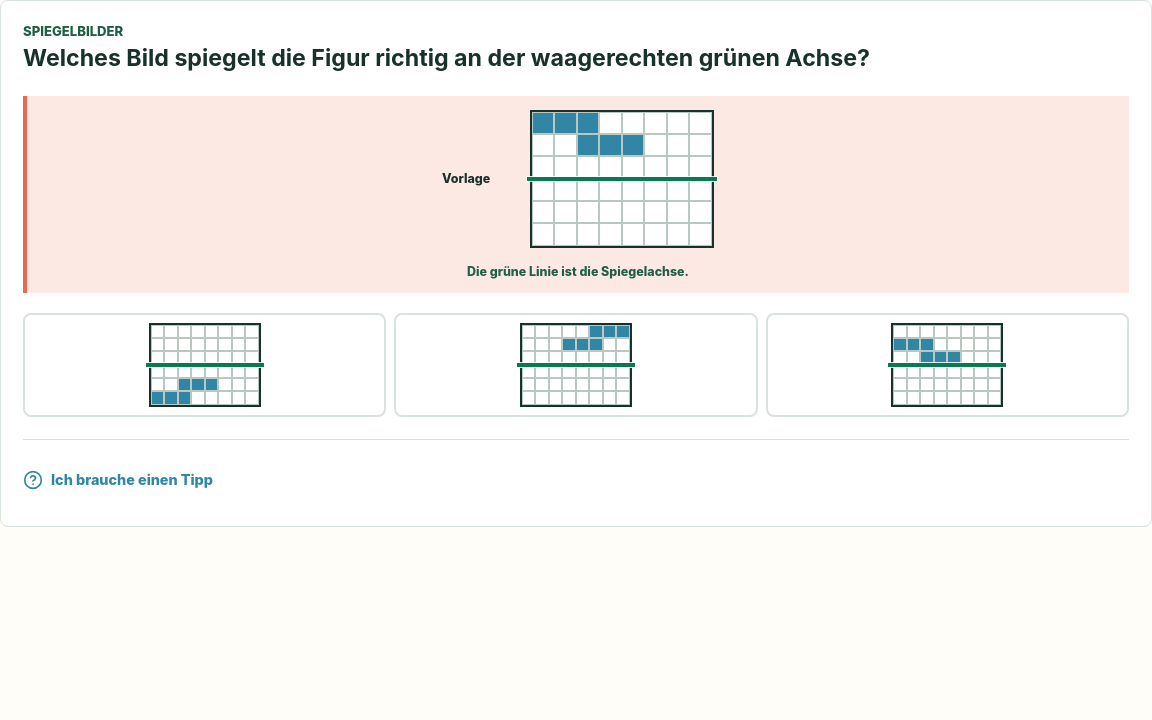
ExerciseCard › wertet im Symmetrie-Transfer das Spiegelbild an der sichtbaren Achse als richtig
This screenshot has width=1152, height=720.
Click the 1st button named "Antwort A".
click(205, 365)  # box [23,313,386,417]
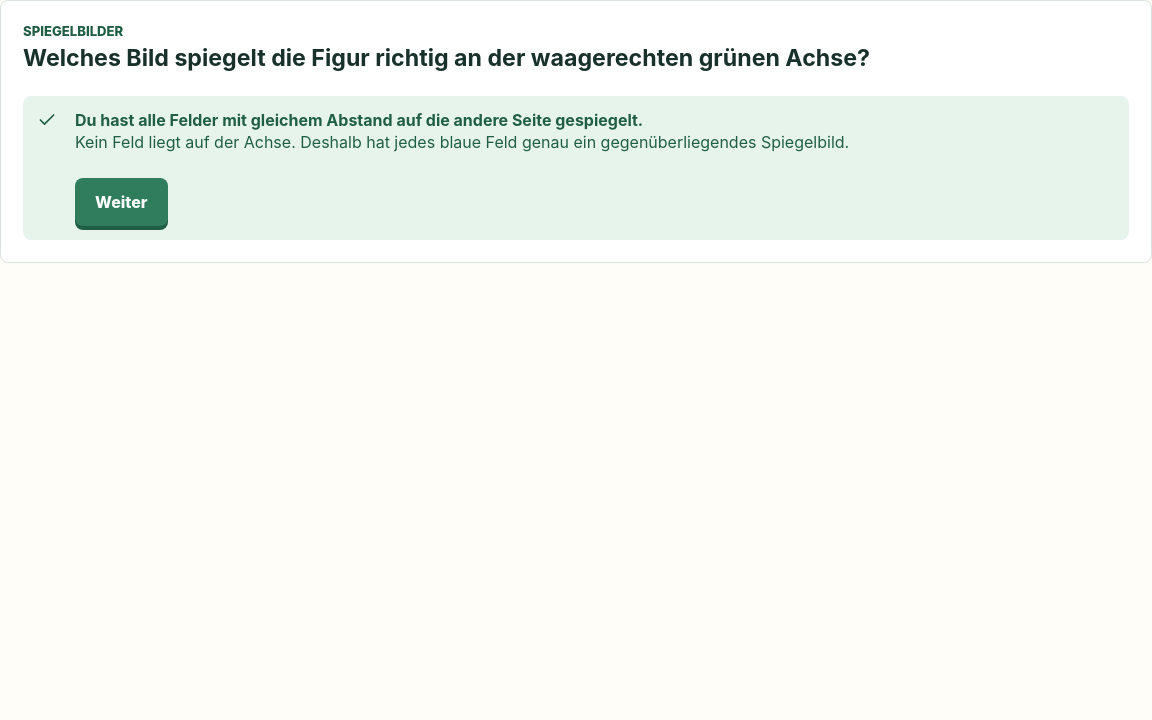
expect the text "Du hast alle Felder mit gleichem Abstand auf die andere Seite gespiegelt." is shown: met, box [75,110,643,130]
